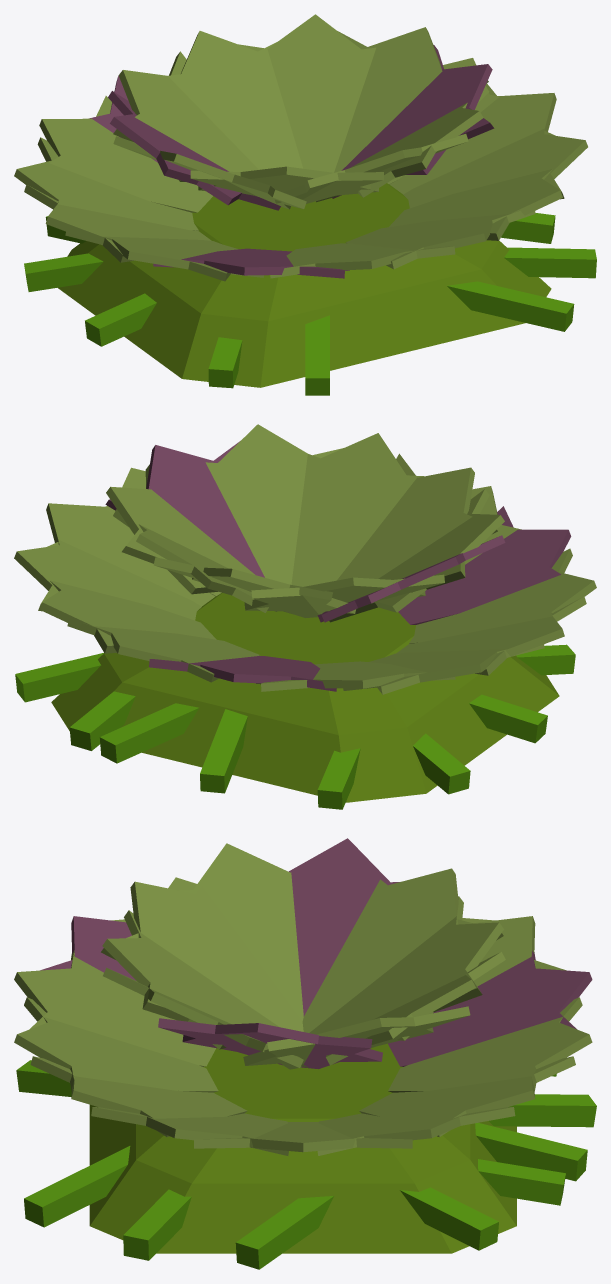
File: SM_Cook_Topping_Herb_HD_01.fbx
3 renders of one model, top to bottom at view 1: azimuth 30°, elevation 25°; view 2: azimuth 150°, elevation 25°; view 3: azimuth 270°, elevation 25°, orthographic. The views are drawn at different scales.
Parts seen in each view (by area): view 1: SM_Cook_Topping_Herb_HD_01; view 2: SM_Cook_Topping_Herb_HD_01; view 3: SM_Cook_Topping_Herb_HD_01.
Part boxes in pixels (bbox=[...]): SM_Cook_Topping_Herb_HD_01: bbox=[14, 14, 596, 395]; SM_Cook_Topping_Herb_HD_01: bbox=[14, 424, 596, 809]; SM_Cook_Topping_Herb_HD_01: bbox=[14, 838, 596, 1269].
Size of the model in its own units: 0.1438 by 0.0525 by 0.1256.
1 material, 1 textured.
